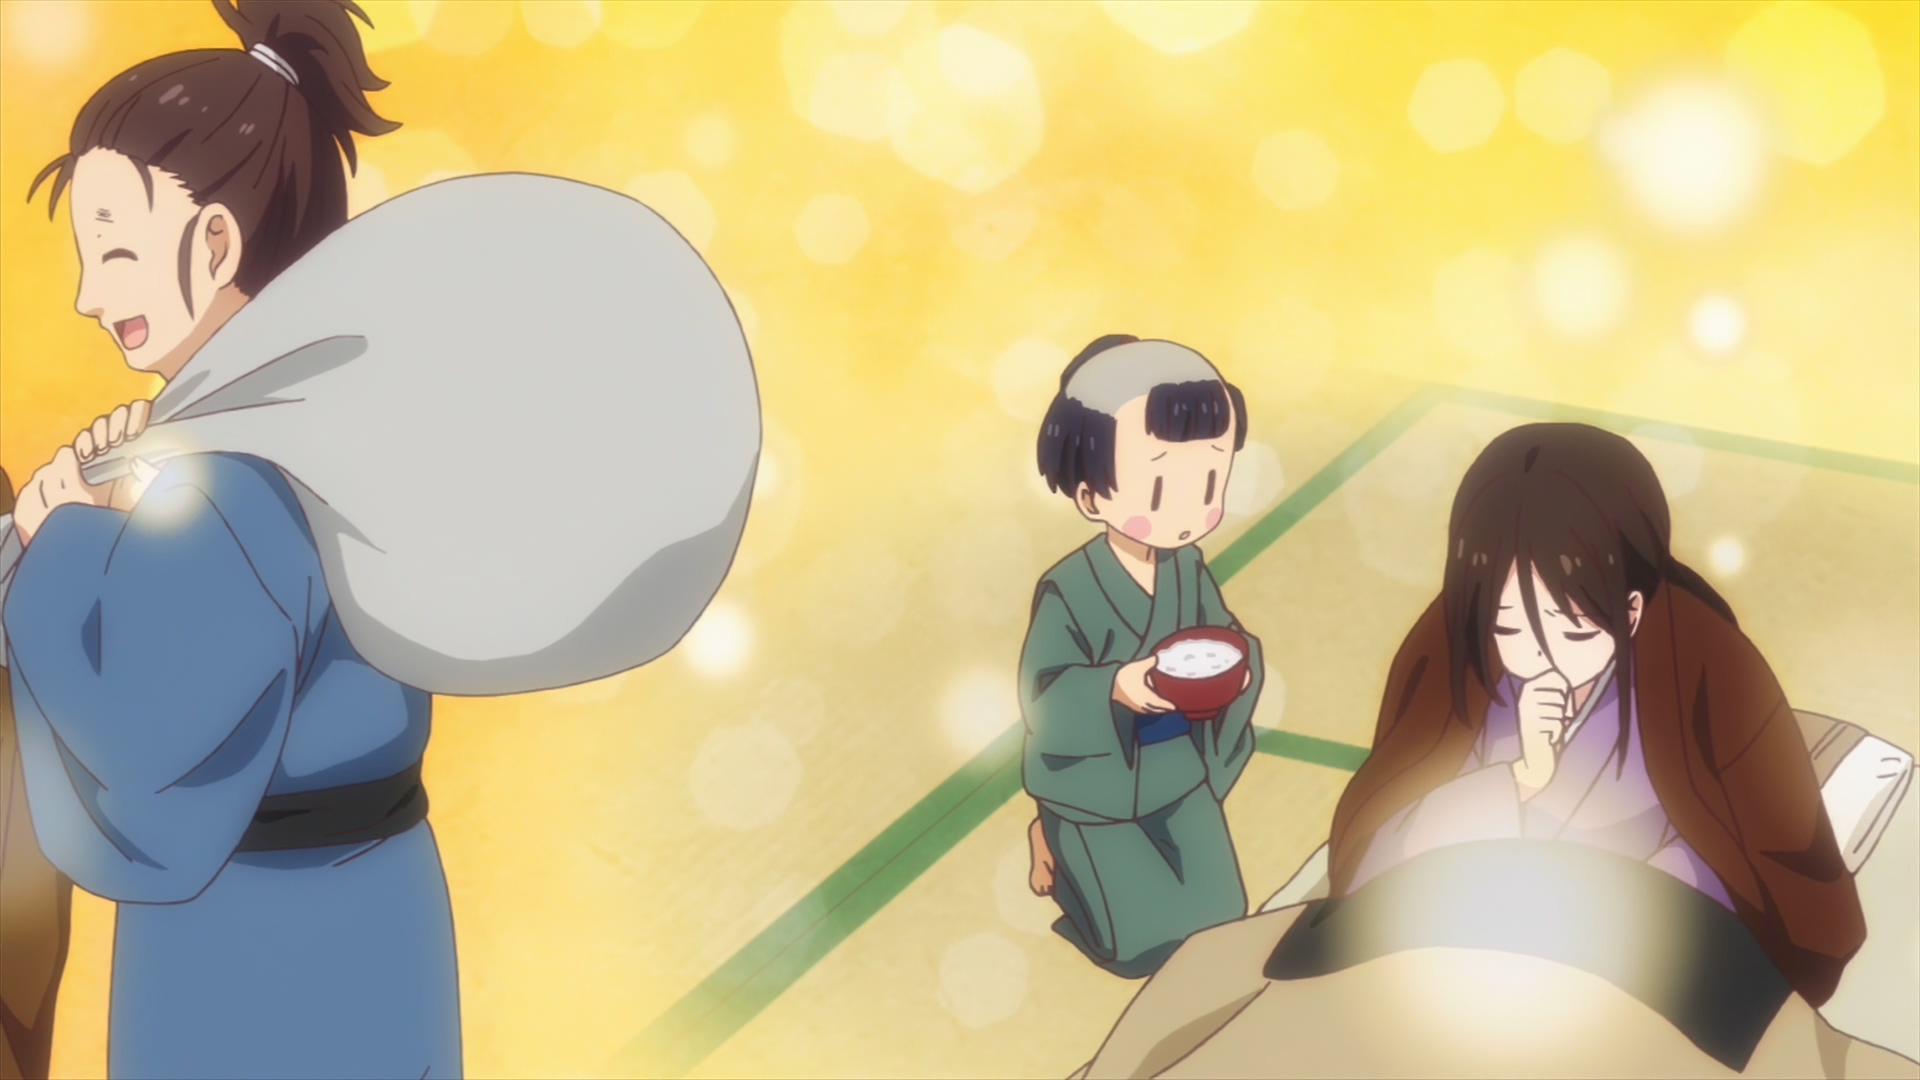其他: (1, 1, 464, 1080), (1331, 423, 1871, 1011), (1018, 335, 1267, 976)
